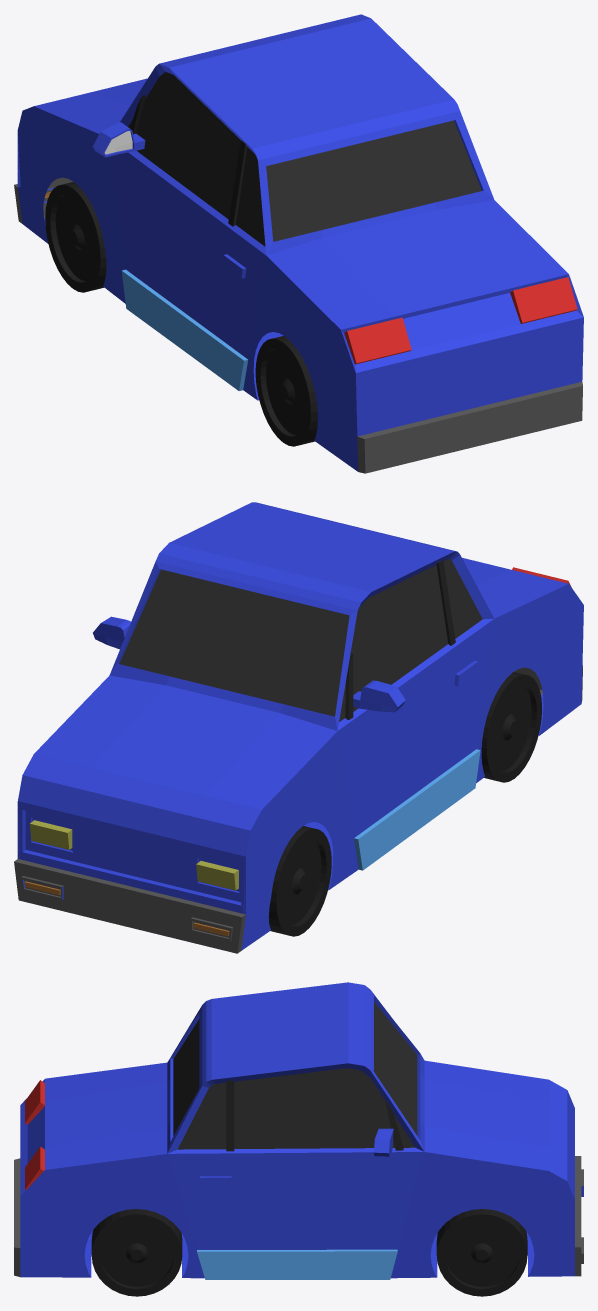
File: low_poly_toy_car_i_kids_car_for_projects.glb
3 views of the same model, one above another, from view 1: azimuth 30°, elevation 25°; view 2: azimuth 150°, elevation 25°; view 3: azimuth 270°, elevation 25° (orthographic). The views are drawn at different scales.
Parts seen in each view (by area): view 1: Cube, Cube.001, Cube.003, Cube.002, Circle.001, Circle; view 2: Cube, Cube.001, Cube.003, Cube.002, Circle, Circle.001; view 3: Cube, Cube.001, Cube.002, Circle.002, Circle.003, Cube.003.
Boxes of the visible parts, x1,y1,x2,y2 form: Cube: (17, 14, 583, 471); Cube.001: (128, 72, 481, 246); Cube.003: (14, 177, 582, 473); Cube.002: (44, 192, 577, 390); Circle.001: (255, 336, 317, 446); Circle: (45, 182, 106, 292); Cube: (17, 502, 583, 950); Cube.001: (119, 559, 482, 721); Cube.003: (14, 665, 582, 953); Cube.002: (24, 567, 571, 936); Circle: (268, 826, 331, 936); Circle.001: (481, 672, 541, 782); Cube: (20, 982, 583, 1278); Cube.001: (173, 1002, 417, 1151); Cube.002: (25, 1080, 397, 1279); Circle.002: (436, 1209, 527, 1296); Circle.003: (91, 1209, 182, 1296); Cube.003: (14, 1156, 583, 1276).
Size of the model in its own units: 1.85 by 1.61 by 3.65.
